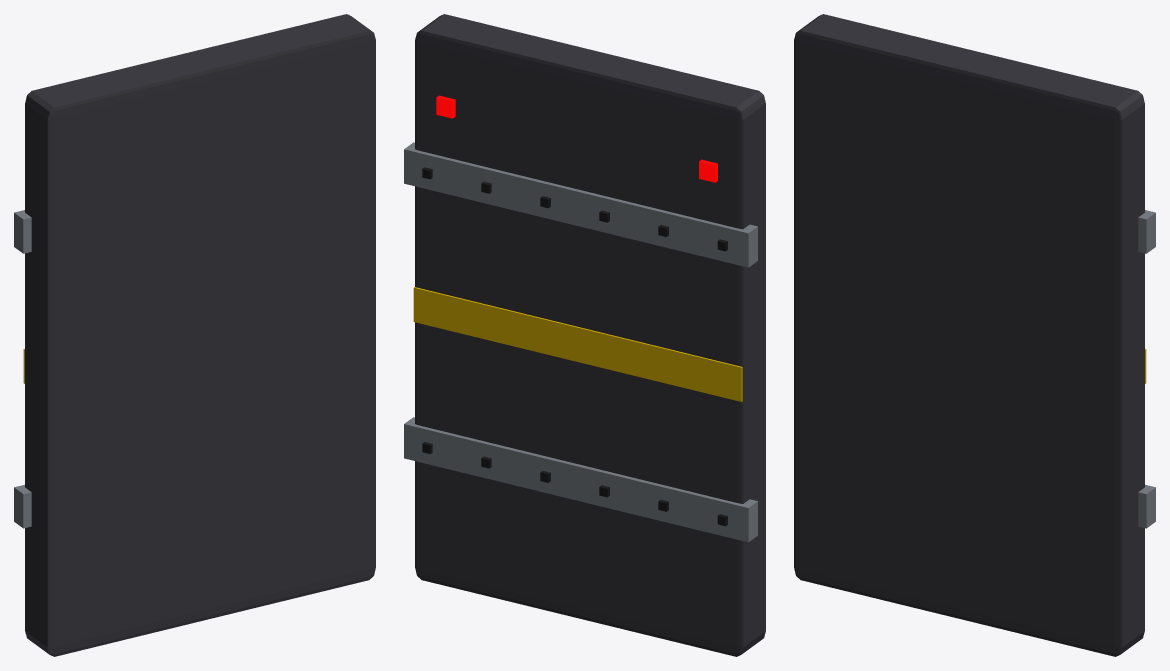
File: shelter_blast_door.glb
3 renders of one model, left to right at view 1: azimuth 30°, elevation 25°; view 2: azimuth 150°, elevation 25°; view 3: azimuth 330°, elevation 25°, orthographic.
Visible parts, largest first — view 1: Shelter_BlastDoor; view 2: Shelter_BlastDoor, Shelter_BlastDoor_Details, Shelter_BlastDoor_Lights; view 3: Shelter_BlastDoor.
Part boxes in pixels (box(x1,y1,x2,y2)): Shelter_BlastDoor: box(14, 14, 375, 656); Shelter_BlastDoor: box(404, 14, 765, 656); Shelter_BlastDoor_Details: box(422, 167, 727, 526); Shelter_BlastDoor_Lights: box(436, 95, 717, 182); Shelter_BlastDoor: box(794, 14, 1155, 656).
Size of the model in its own units: 2.1 by 3.2 by 0.3.
